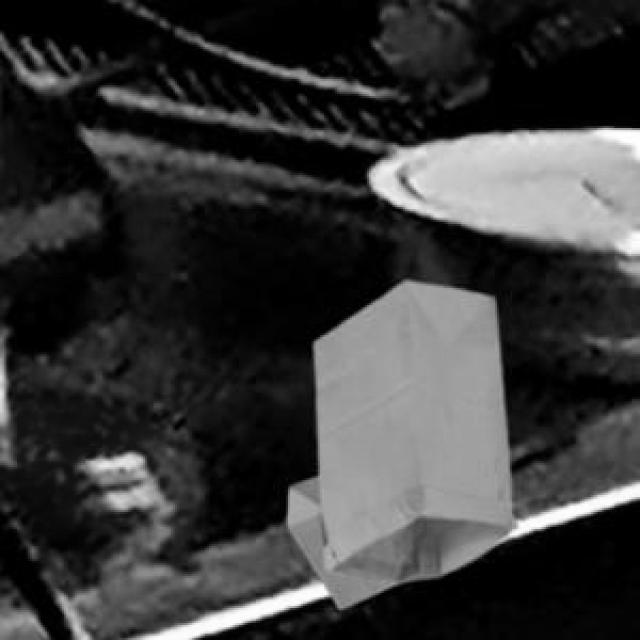paper: (309, 277, 508, 578), (284, 474, 393, 604)
